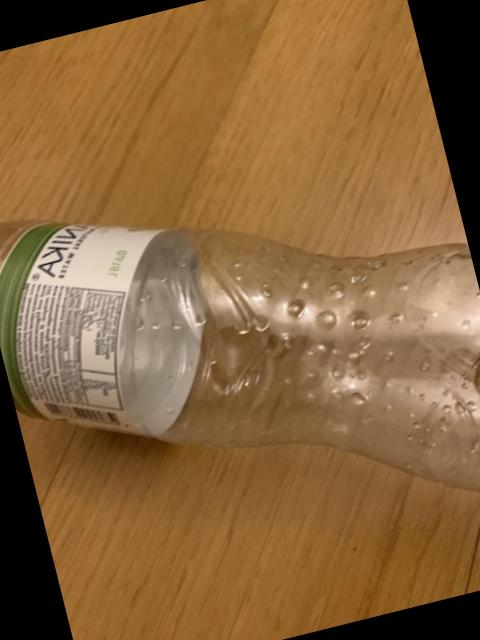plastic: (0, 218, 480, 486)
